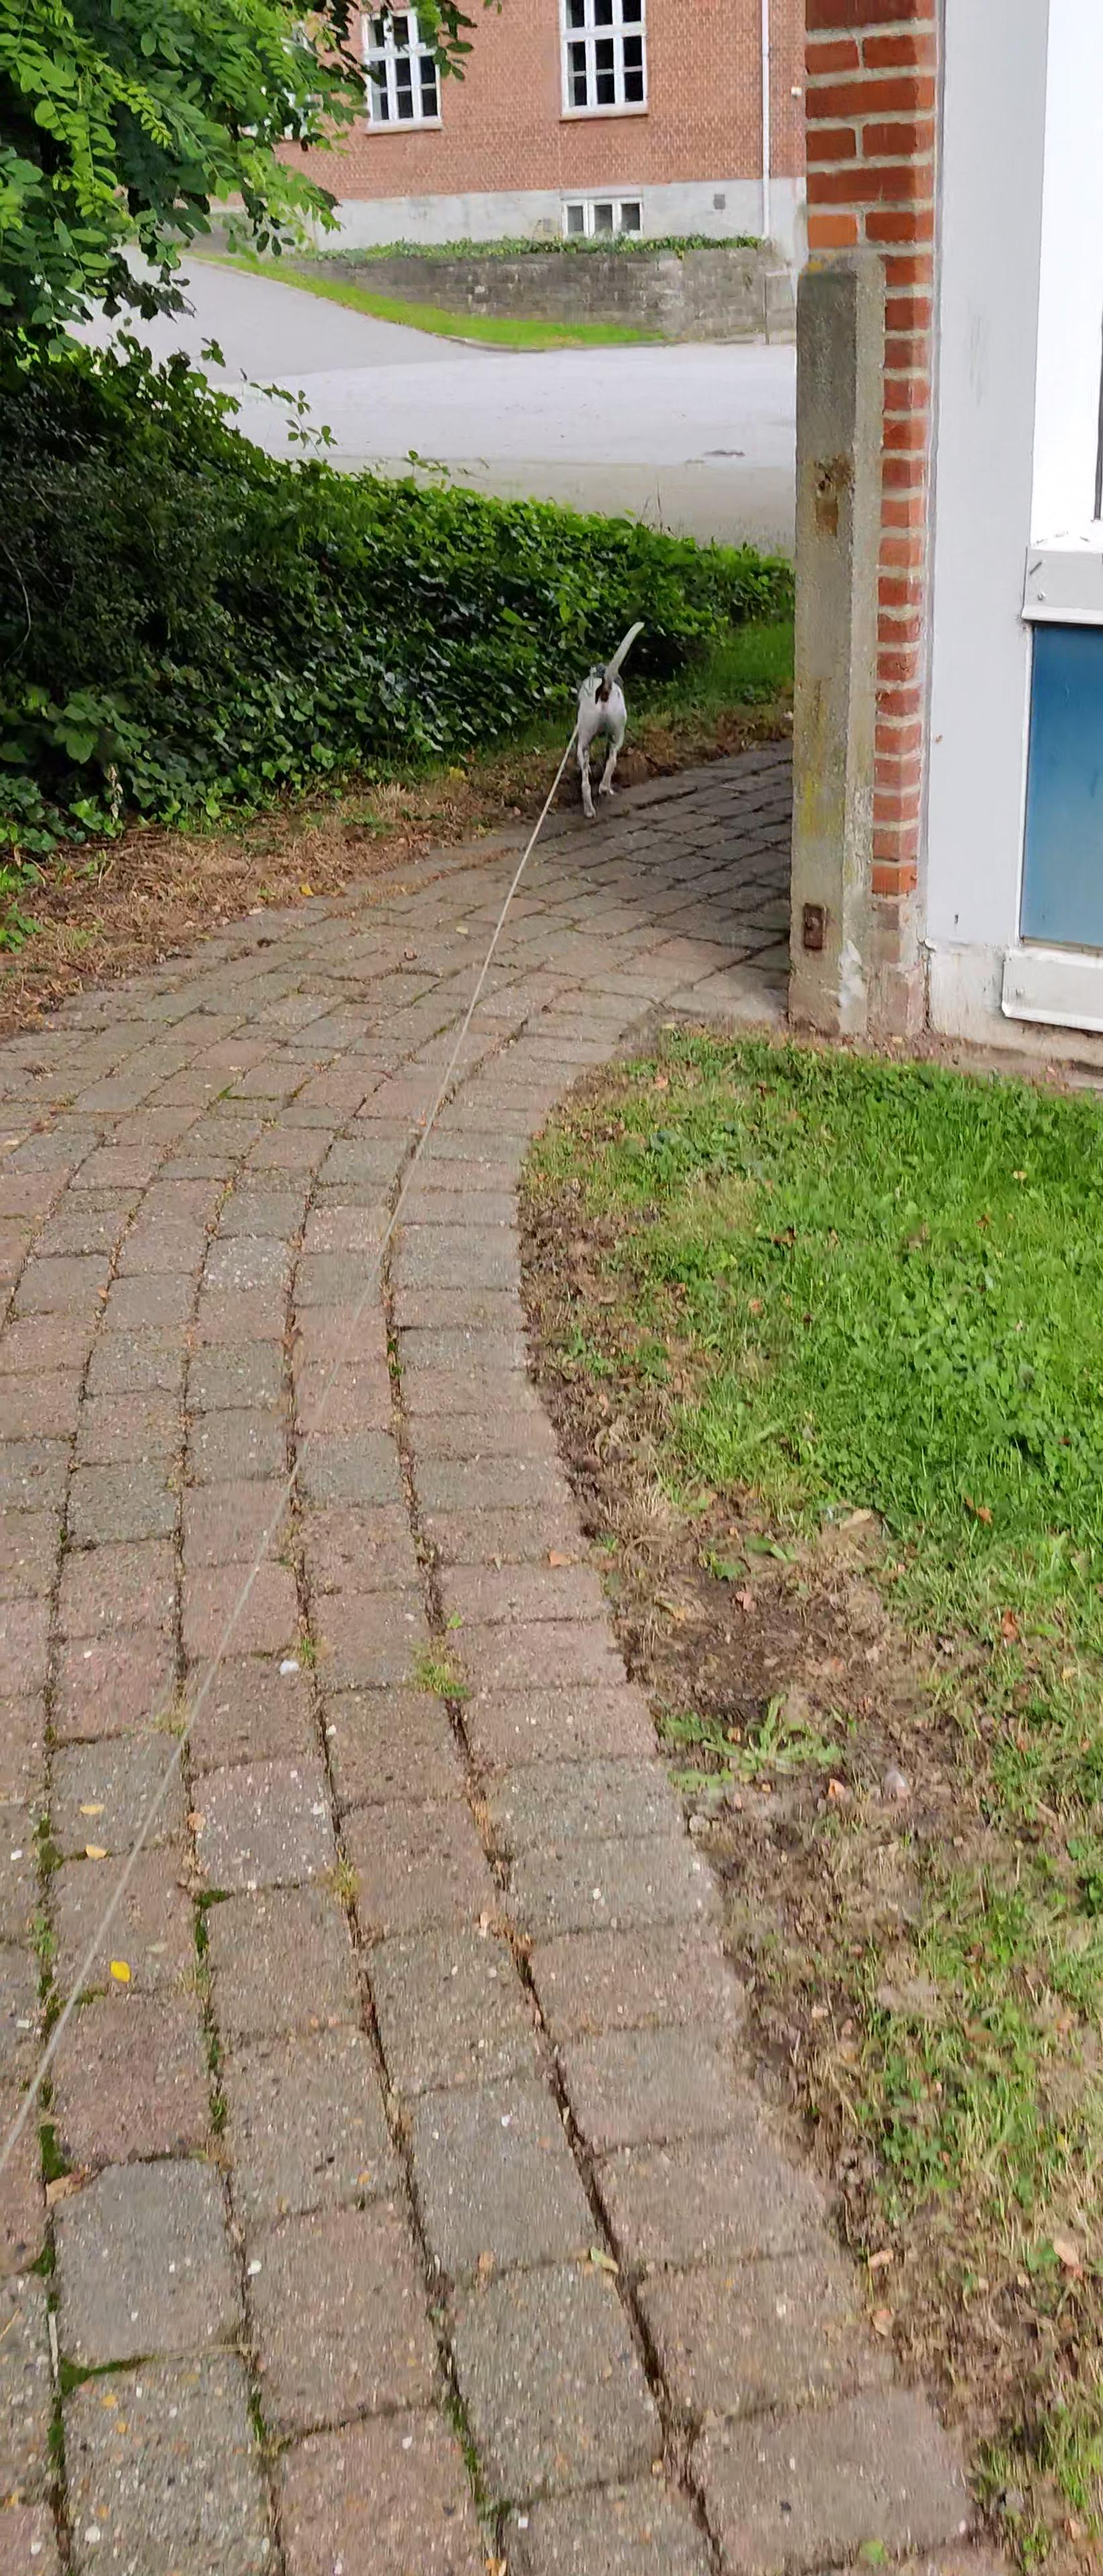Dog: (562, 616, 653, 825)
